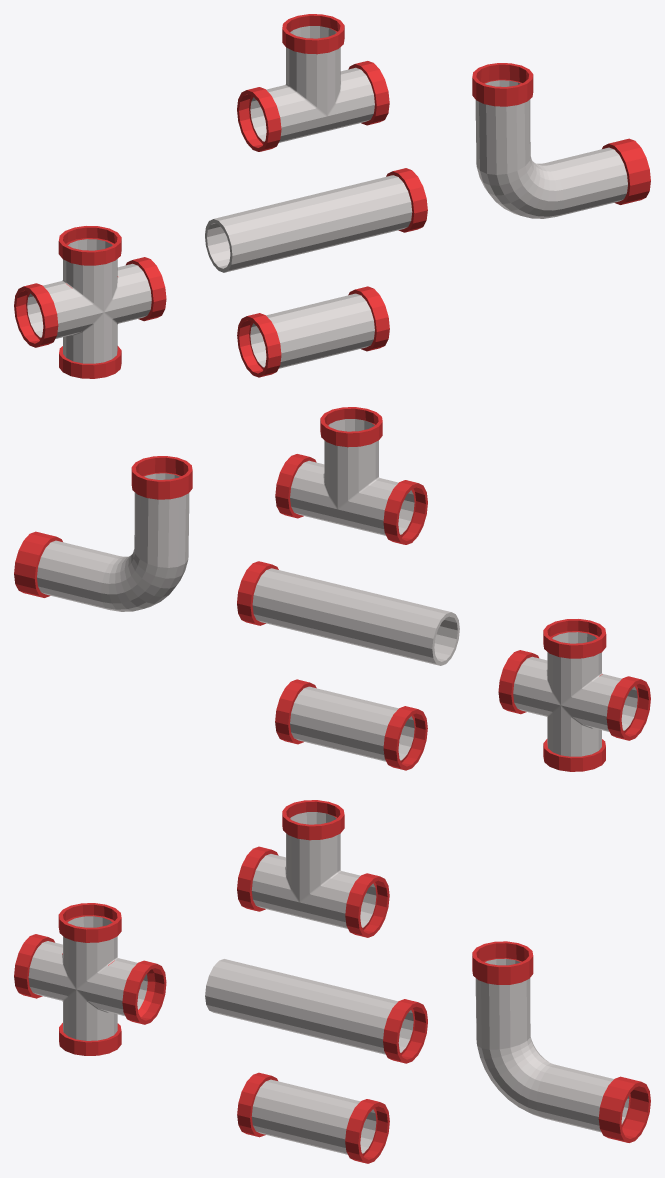
The model's file is pipes.fbx.
The picture shows the model from 3 angles, top to bottom: view 1: azimuth 30°, elevation 25°; view 2: azimuth 150°, elevation 25°; view 3: azimuth 330°, elevation 25°; orthographic projection.
Parts seen in each view (by area): view 1: curve, Cylinder, Cylinder.001, straight-pipe, t-pipe.001, t-pipe; view 2: curve, Cylinder, Cylinder.001, straight-pipe, t-pipe.001, t-pipe; view 3: curve, Cylinder, Cylinder.001, straight-pipe, t-pipe.001, t-pipe.
Part boxes in pixels (<box>): curve: <box>472,63,650,218</box>; Cylinder: <box>14,226,166,378</box>; Cylinder.001: <box>205,168,427,272</box>; straight-pipe: <box>237,286,389,377</box>; t-pipe.001: <box>250,26,374,142</box>; t-pipe: <box>237,14,389,151</box>; curve: <box>14,456,192,611</box>; Cylinder: <box>498,619,650,771</box>; Cylinder.001: <box>237,561,459,665</box>; straight-pipe: <box>275,679,427,770</box>; t-pipe.001: <box>290,419,414,535</box>; t-pipe: <box>275,407,427,544</box>; curve: <box>472,941,650,1142</box>; Cylinder: <box>14,903,166,1055</box>; Cylinder.001: <box>205,959,427,1063</box>; straight-pipe: <box>237,1072,389,1163</box>; t-pipe.001: <box>251,812,376,928</box>; t-pipe: <box>237,800,389,937</box>.
Size of the model in its own units: 2533 by 1335 by 231.
